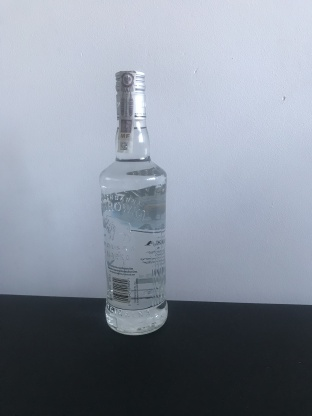nakretka: (113, 67, 148, 123)
